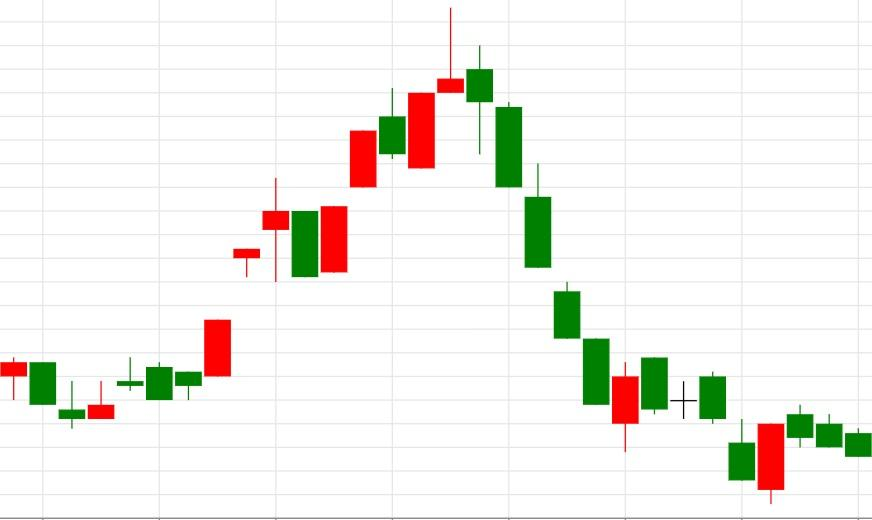three_black_crows_fall: (292, 7, 552, 277)
